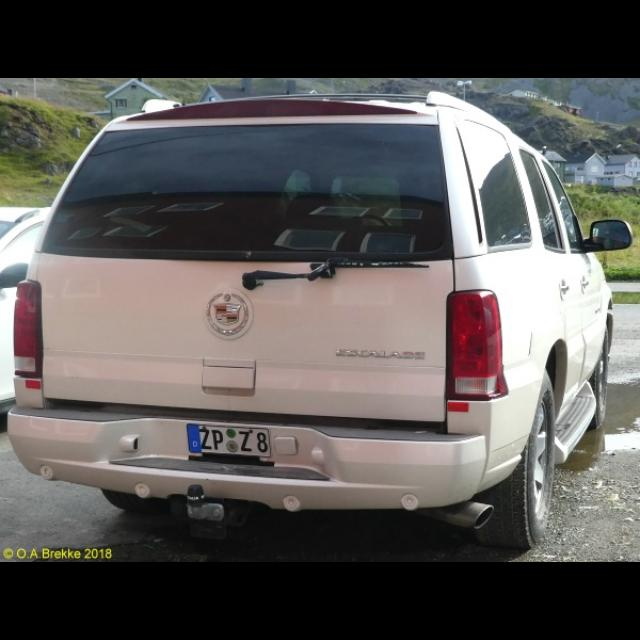d_license_plate: (187, 424, 269, 456)
